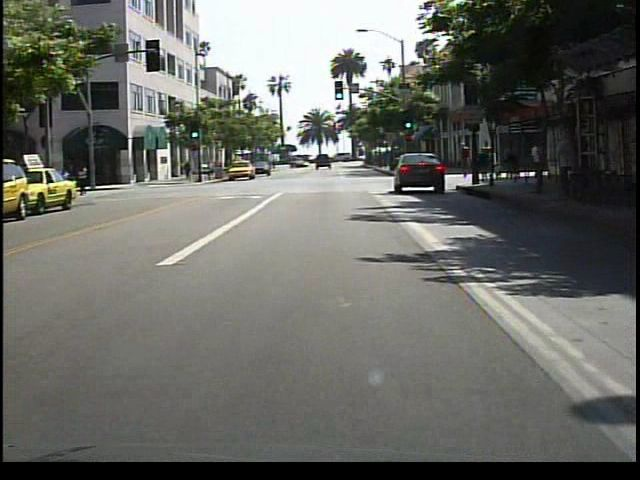person: (76, 161, 98, 202), (456, 140, 473, 183)
